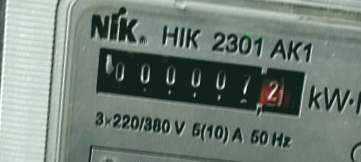0: (113, 58, 130, 83), (189, 65, 206, 90), (214, 67, 230, 92), (165, 63, 181, 87), (139, 61, 154, 85)
2: (266, 78, 282, 103)
7: (240, 71, 255, 96)
screen: (84, 33, 318, 129)
